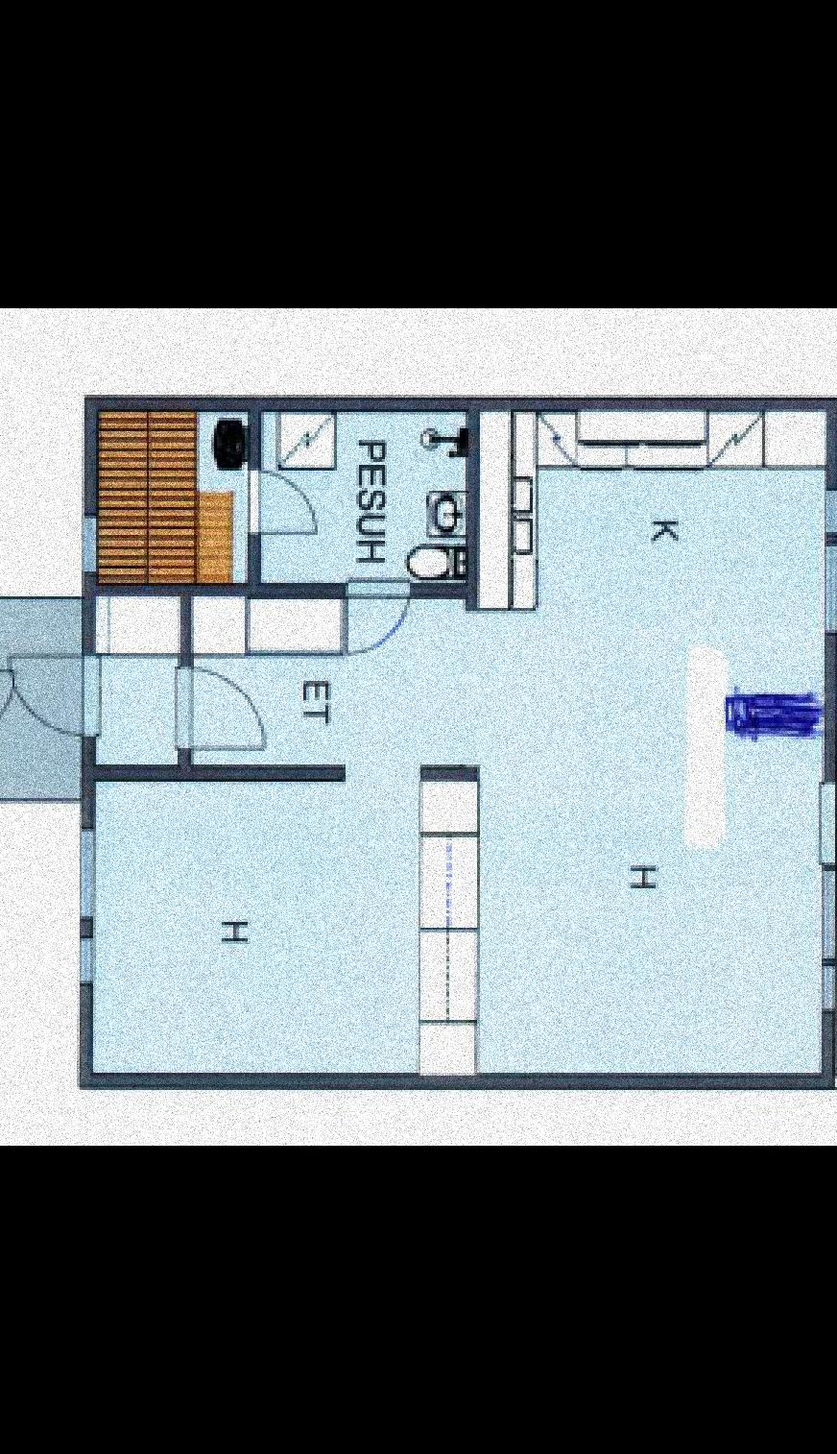door: (8, 649, 109, 740), (171, 667, 269, 753), (333, 575, 408, 657), (248, 471, 325, 535), (807, 777, 837, 863)
window: (816, 867, 837, 958), (77, 825, 95, 913), (821, 545, 837, 634), (77, 521, 99, 569), (74, 940, 98, 983), (819, 479, 837, 535), (815, 967, 837, 1009)
zone: (91, 417, 826, 1078), (259, 414, 468, 582), (102, 411, 251, 585), (0, 598, 77, 793), (98, 598, 177, 763)
